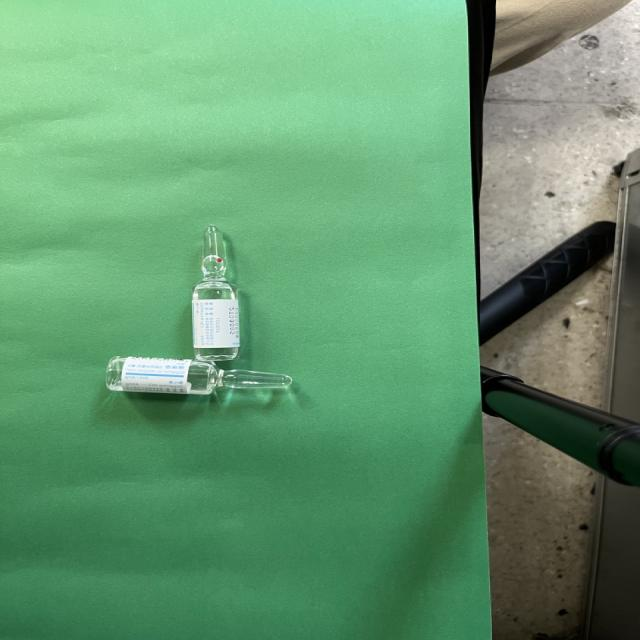Ampoules: (106, 357, 292, 394), (193, 225, 239, 362)
